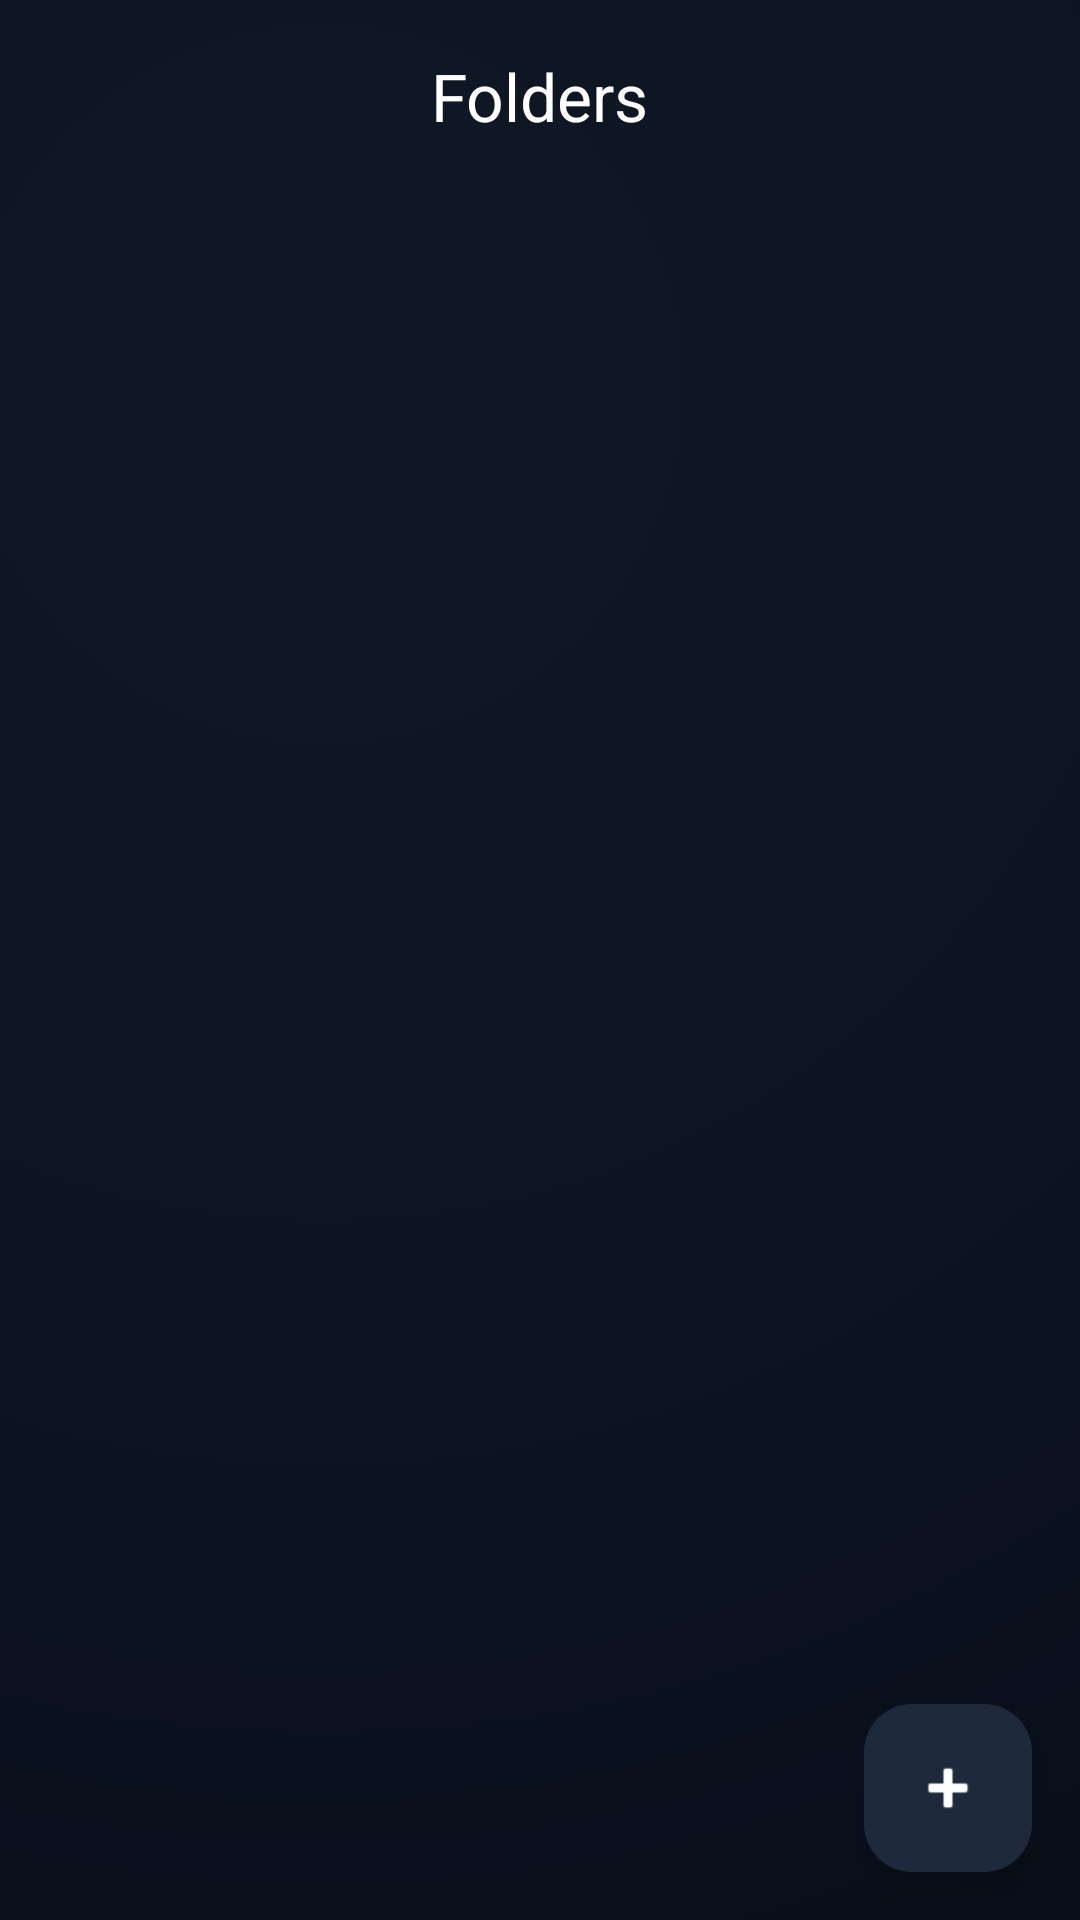

Where to tap for icons on this 1080 × 1920 app screen, as (x,y):
New Folder: (948,1788)
